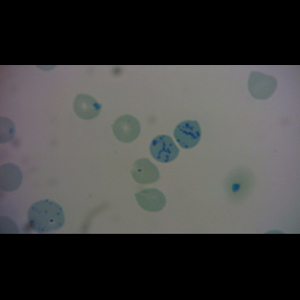aggregate reticulocyte: (148, 134, 182, 164), (173, 119, 203, 150)
erythrocyte: (247, 69, 279, 101), (111, 114, 143, 144), (133, 187, 168, 213), (130, 157, 162, 185), (71, 93, 104, 120), (1, 161, 24, 193)
punctate reticulocyte: (25, 198, 67, 234)
